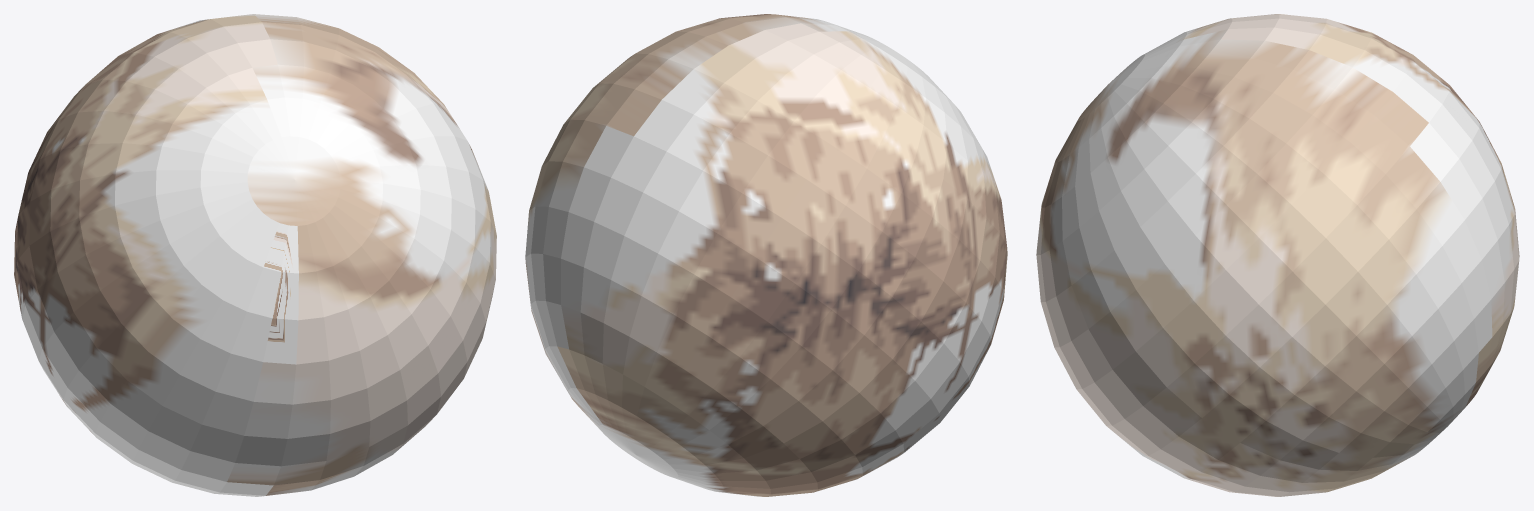
The model's file is itermSphere.fbx.
3 views of the same model, side by side, from view 1: azimuth 30°, elevation 25°; view 2: azimuth 150°, elevation 25°; view 3: azimuth 270°, elevation 25° (orthographic).
Parts seen in each view (by area): view 1: Sphere; view 2: Sphere; view 3: Sphere.
Boxes of the visible parts, bbox=[...] form: Sphere: bbox=[14, 14, 496, 496]; Sphere: bbox=[525, 14, 1007, 496]; Sphere: bbox=[1036, 14, 1519, 496].
Bounding box in the file's own units: 199 × 200 × 200.
Materials: 1 (1 with a texture image).
